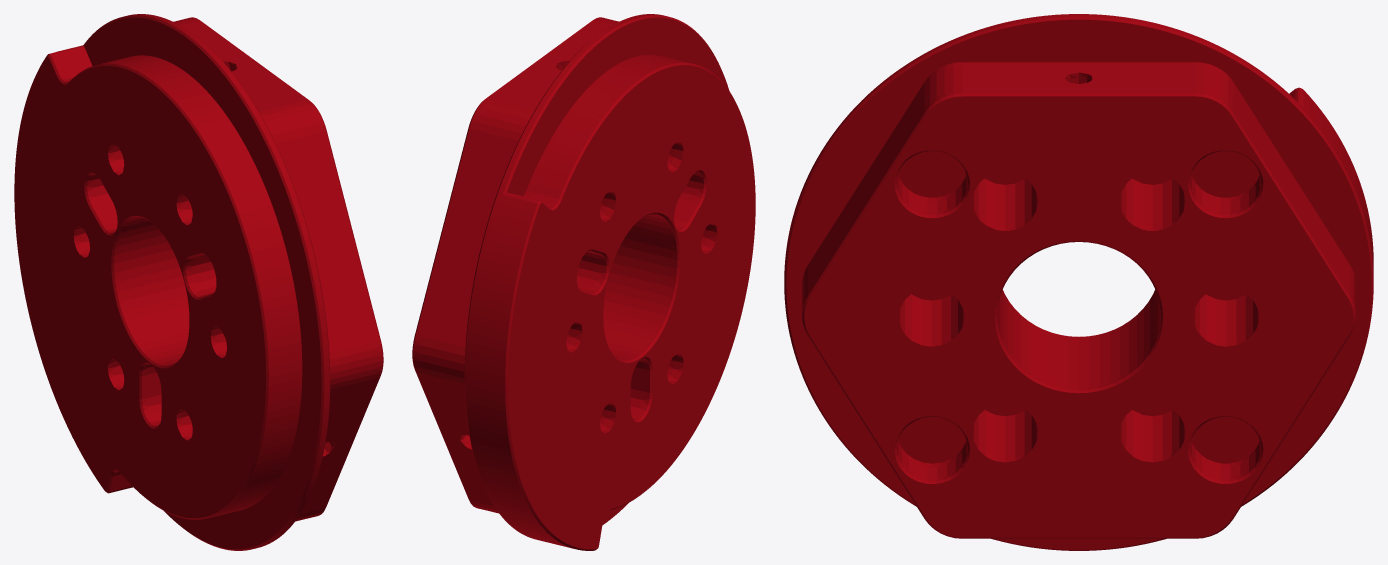
3 views of the same model, side by side, from view 1: azimuth 30°, elevation 25°; view 2: azimuth 150°, elevation 25°; view 3: azimuth 270°, elevation 25° (orthographic). The views are drawn at different scales.
Visible parts, largest first — view 1: arm_link6; view 2: arm_link6; view 3: arm_link6.
Boxes of the visible parts, x1=… form: arm_link6: x1=14, y1=14, x2=383, y2=550; arm_link6: x1=412, y1=14, x2=755, y2=550; arm_link6: x1=784, y1=14, x2=1373, y2=550.
Size of the model in its own units: 0.012 by 0.054 by 0.054.
